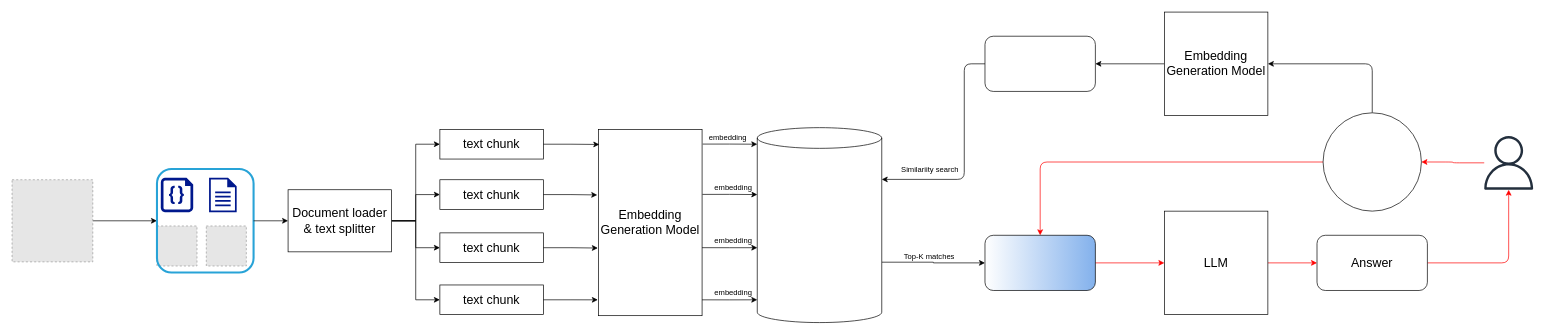
The diagram is 1548 pixels wide and 335 high, and some of its shapes have lost their labels. Grey dashed boxes stand in for pictures. Here are the shapes that lost their labels. From the top down, the box of each, then its label:
(984, 36, 1095, 91): Query Embedding
(1322, 112, 1421, 211): Question
(757, 127, 882, 323): Vector Database
(984, 235, 1095, 290): Prompt
